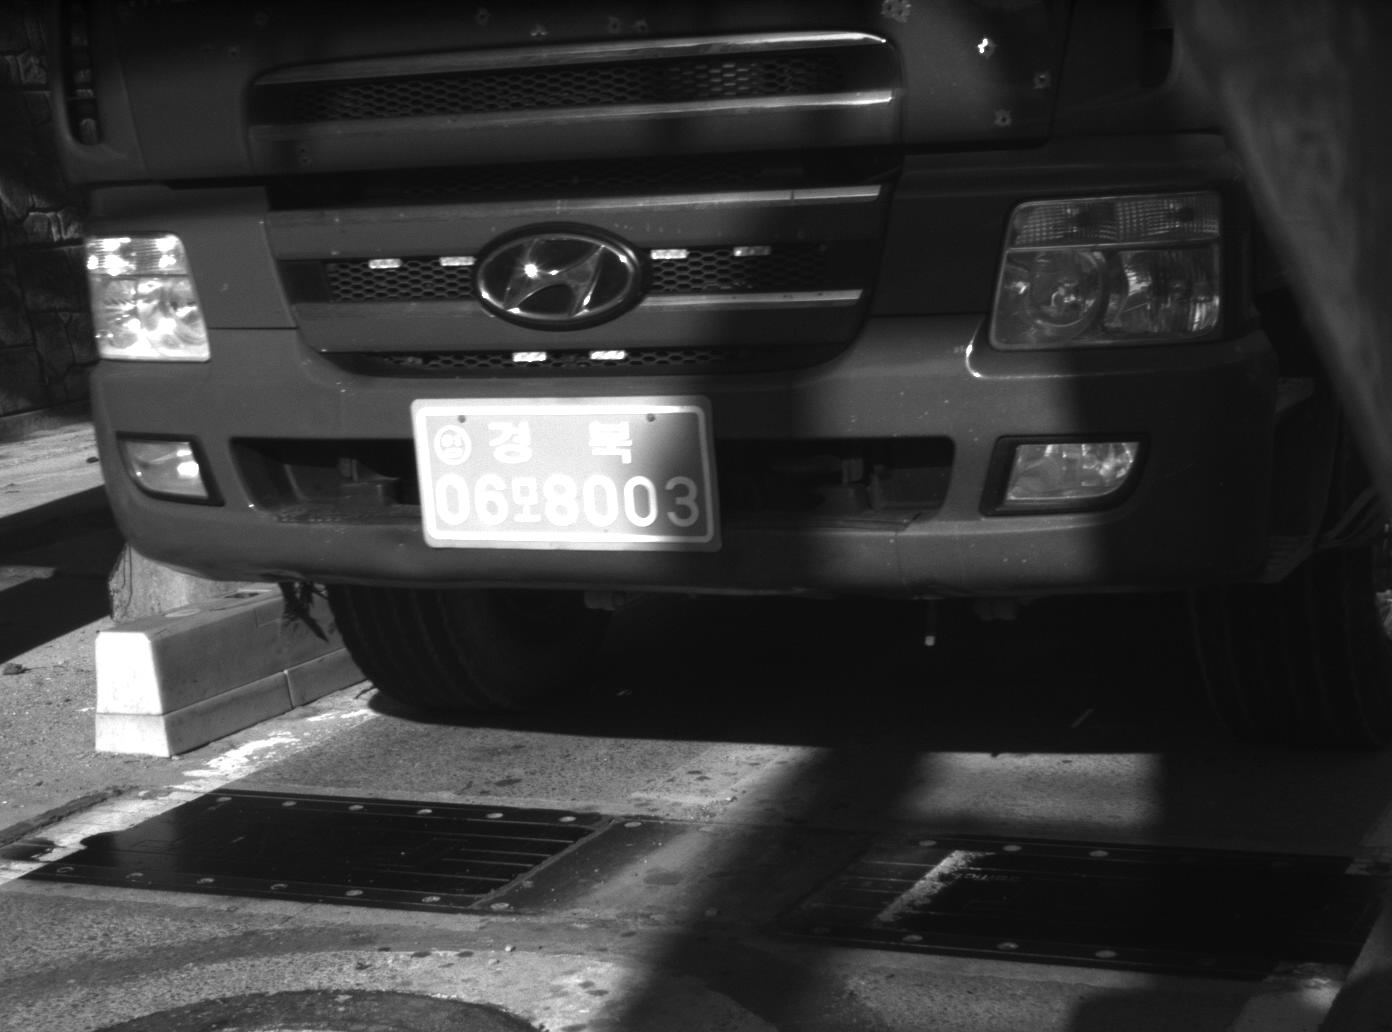car: (1, 1, 1390, 704)
plate: (410, 394, 718, 549)
